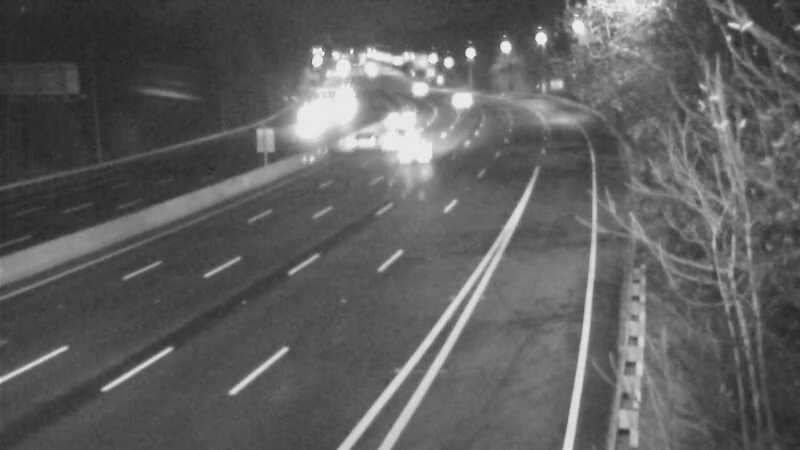vehicle: (372, 114, 452, 194), (433, 71, 483, 121), (372, 85, 422, 135), (370, 116, 420, 166), (343, 115, 393, 165), (276, 101, 326, 151)
